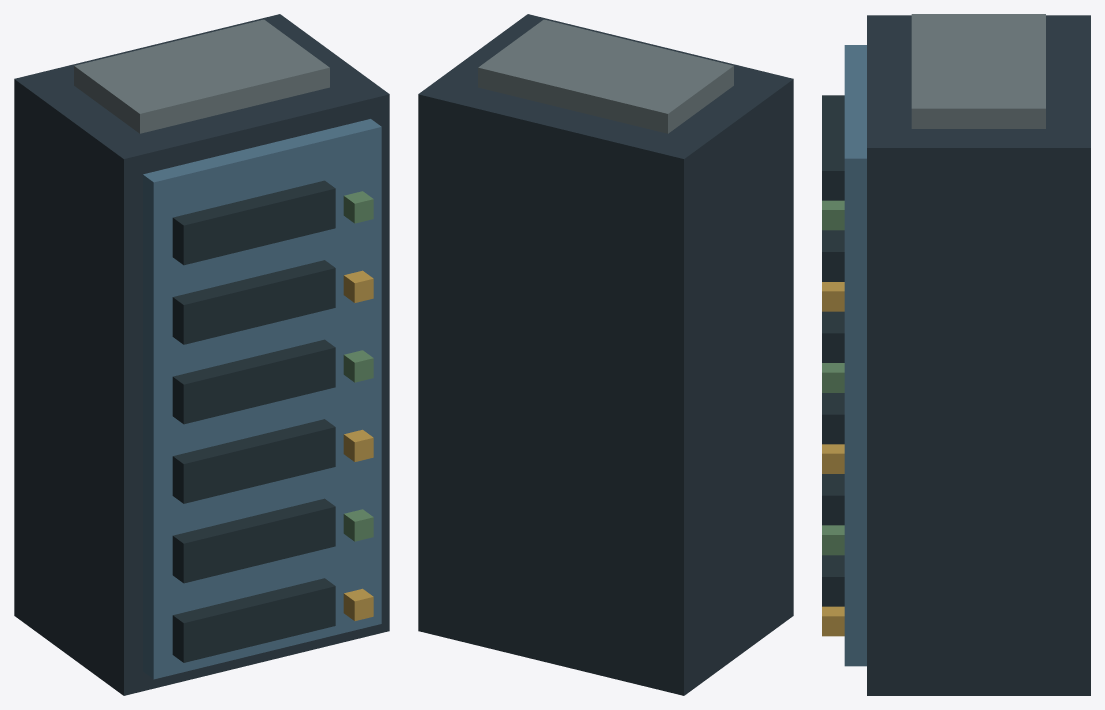
File: security-04.glb
The picture shows the model from 3 angles, left to right: view 1: azimuth 30°, elevation 25°; view 2: azimuth 150°, elevation 25°; view 3: azimuth 270°, elevation 25°; orthographic projection. The views are drawn at different scales.
Visible parts, largest first — view 1: Firewall tower; view 2: Firewall tower; view 3: Firewall tower.
Part boxes in pixels (<box>): Firewall tower: <box>14,14,389,695</box>; Firewall tower: <box>418,14,793,695</box>; Firewall tower: <box>822,14,1090,695</box>.
Size of the model in its own units: 1.12 by 2.24 by 0.96.
